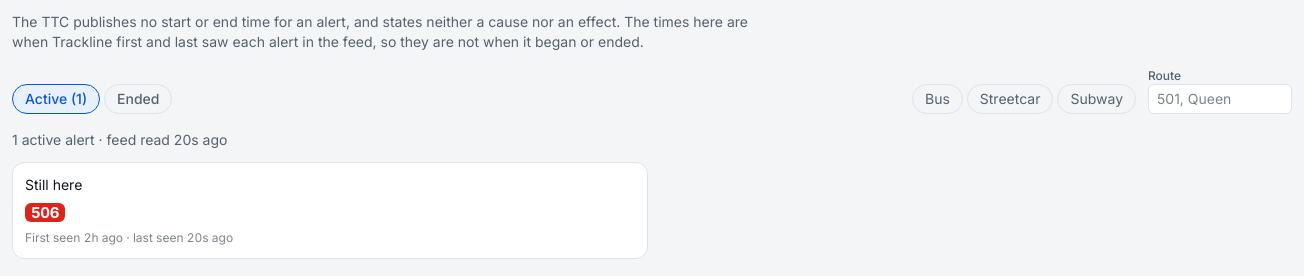
the alerts page › ended alerts › are fetched and listed, marked as ended, when asked for
Check: the text "Still here" is shown, box [25,175,82,195]
Click the button "Ended": x=138, y=99 [104,84,172,114]
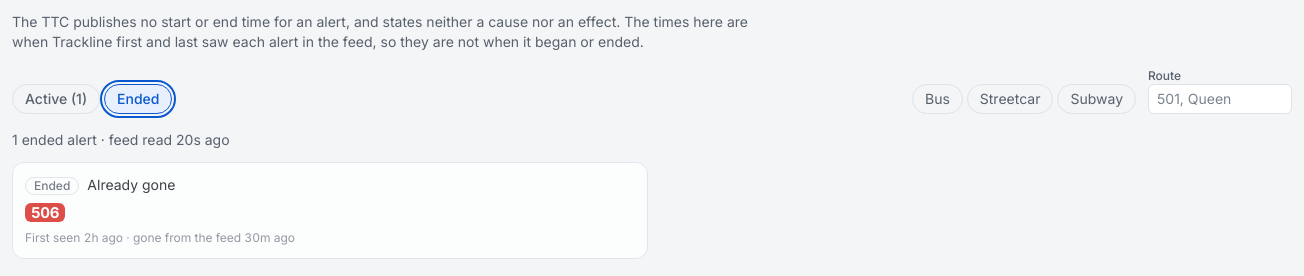
Check: the text "Already gone" is shown, box [87,175,175,195]
Check: the text "Still here" is gone
Check: the text "1 ended alert · feed read 20s ago" is shown, box [12,131,230,148]
